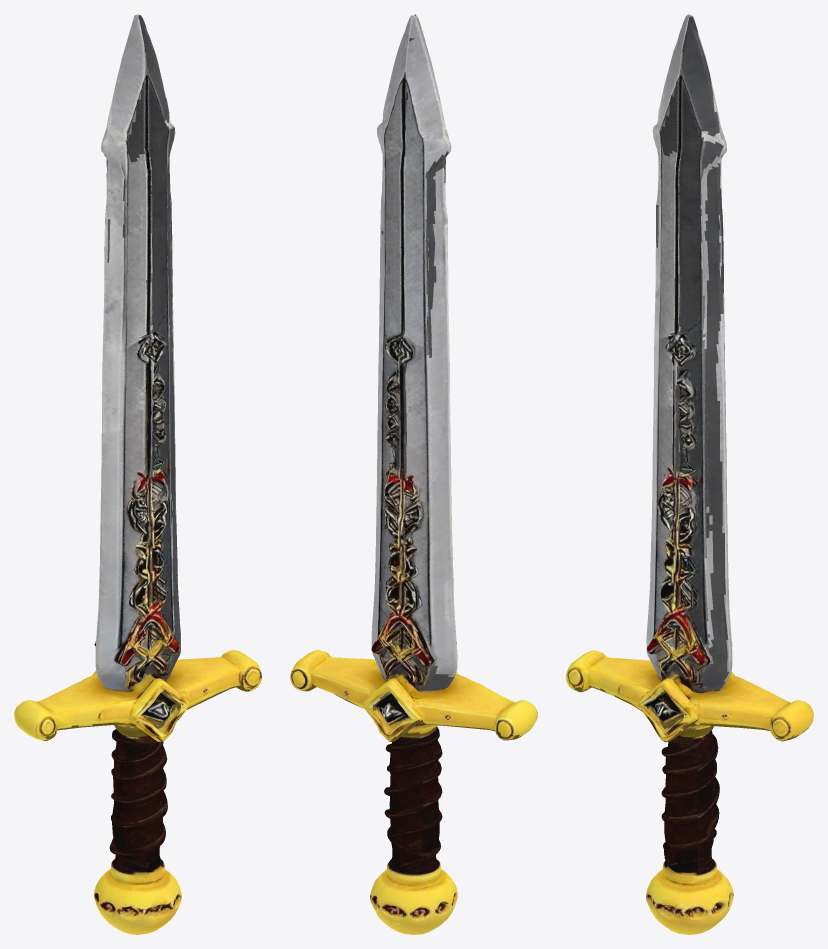
Rendered from espada162.glb.
3 renders of one model, left to right at view 1: azimuth 30°, elevation 25°; view 2: azimuth 150°, elevation 25°; view 3: azimuth 330°, elevation 25°, orthographic.
Parts seen in each view (by area): view 1: tripo_node_f833b930-d4aa-44b8-93f1-9f79a8a3ebf9; view 2: tripo_node_f833b930-d4aa-44b8-93f1-9f79a8a3ebf9; view 3: tripo_node_f833b930-d4aa-44b8-93f1-9f79a8a3ebf9.
Boxes of the visible parts, x1=… form: tripo_node_f833b930-d4aa-44b8-93f1-9f79a8a3ebf9: x1=14, y1=14, x2=261, y2=934; tripo_node_f833b930-d4aa-44b8-93f1-9f79a8a3ebf9: x1=290, y1=14, x2=537, y2=934; tripo_node_f833b930-d4aa-44b8-93f1-9f79a8a3ebf9: x1=566, y1=14, x2=813, y2=934.
Bounding box in the file's own units: 0.2597 × 0.9784 × 0.1163.
1 material, 1 textured.
